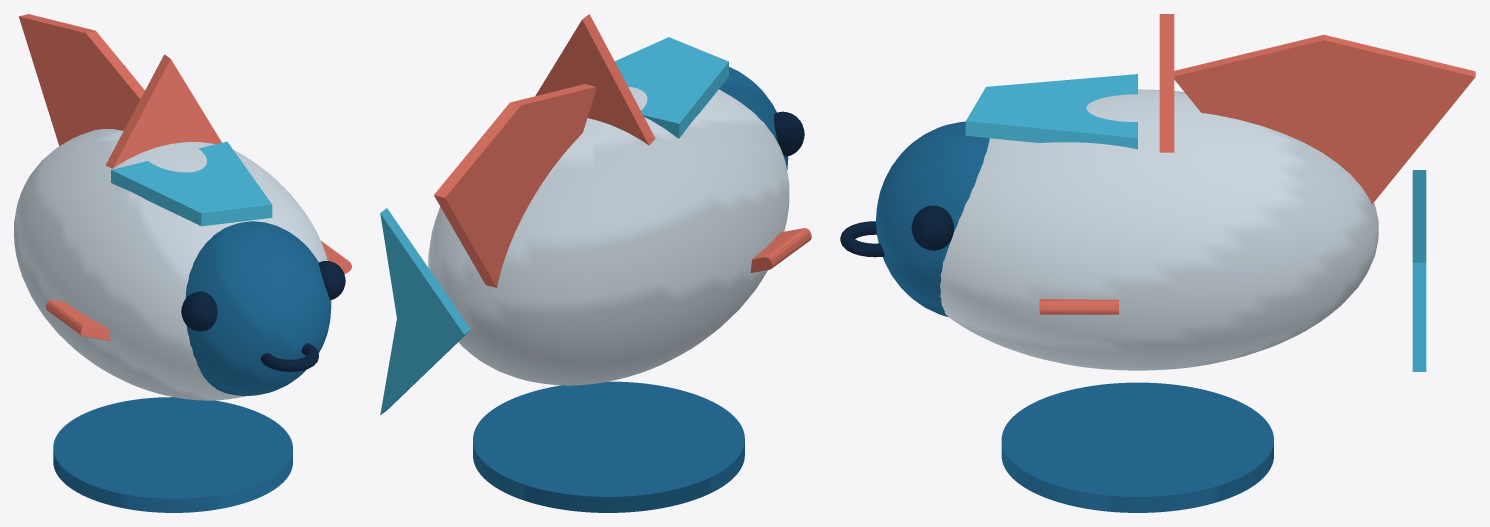
The model's file is 0502_鱼类图鉴_肺鱼.glb.
The picture shows the model from 3 angles, left to right: view 1: azimuth 30°, elevation 25°; view 2: azimuth 150°, elevation 25°; view 3: azimuth 270°, elevation 25°; orthographic projection. The views are drawn at different scales.
Parts seen in each view (by area): view 1: card_0502; view 2: card_0502; view 3: card_0502.
Boxes of the visible parts, <box> form: card_0502: <box>14,14,351,512</box>; card_0502: <box>380,14,811,512</box>; card_0502: <box>840,14,1475,512</box>.
Size of the model in its own units: 0.7204 by 1 by 1.29.
